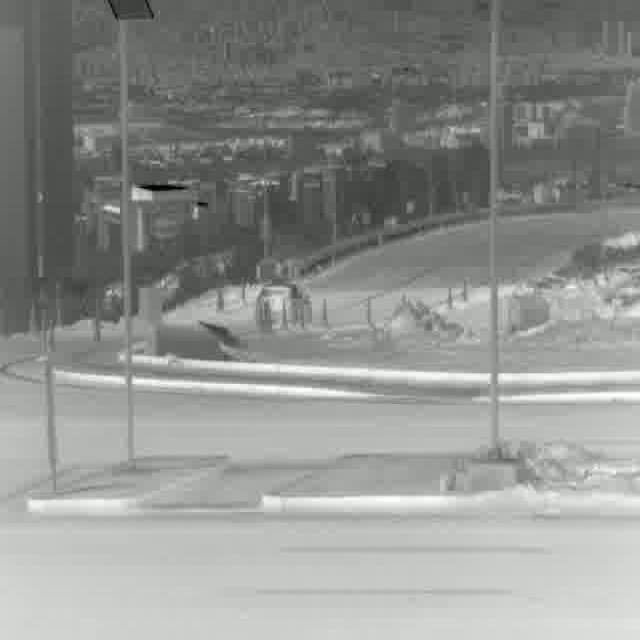Car: (256, 283, 314, 329)
